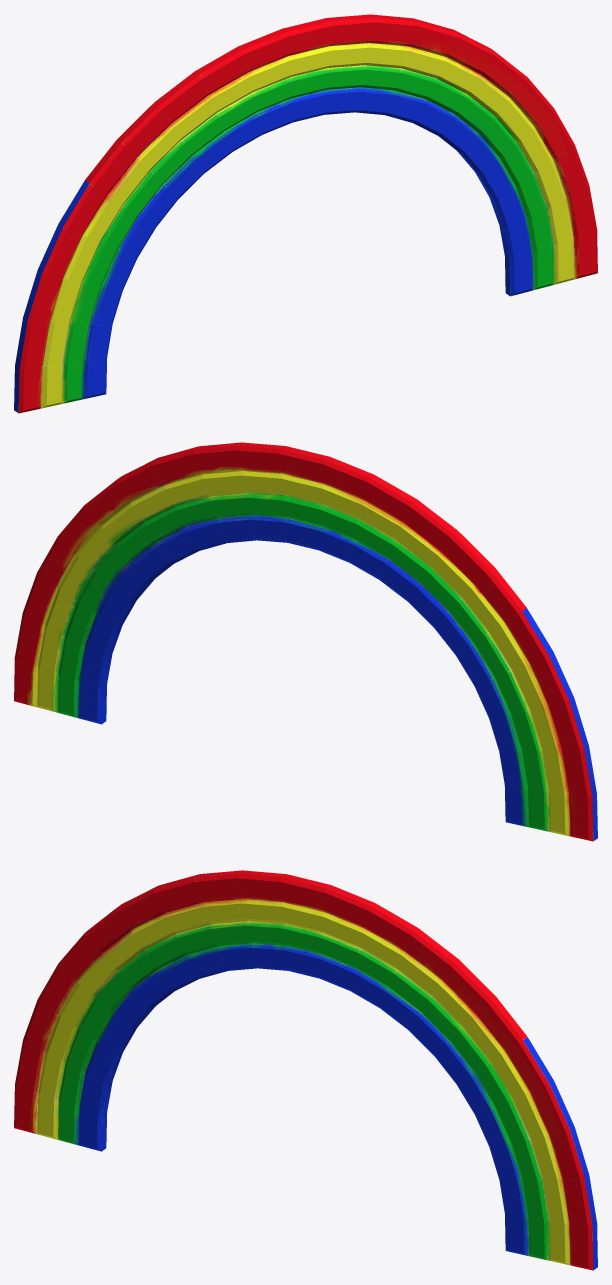
The model's file is rainbow.FBX.
3 renders of one model, top to bottom at view 1: azimuth 30°, elevation 25°; view 2: azimuth 150°, elevation 25°; view 3: azimuth 330°, elevation 25°, orthographic.
Visible parts, largest first — view 1: Arc001; view 2: Arc001; view 3: Arc001.
Part boxes in pixels (<box>): Arc001: <box>14,14,597,413</box>; Arc001: <box>14,442,597,841</box>; Arc001: <box>14,870,597,1270</box>.
Size of the model in its own units: 435 by 229 by 9.92.
